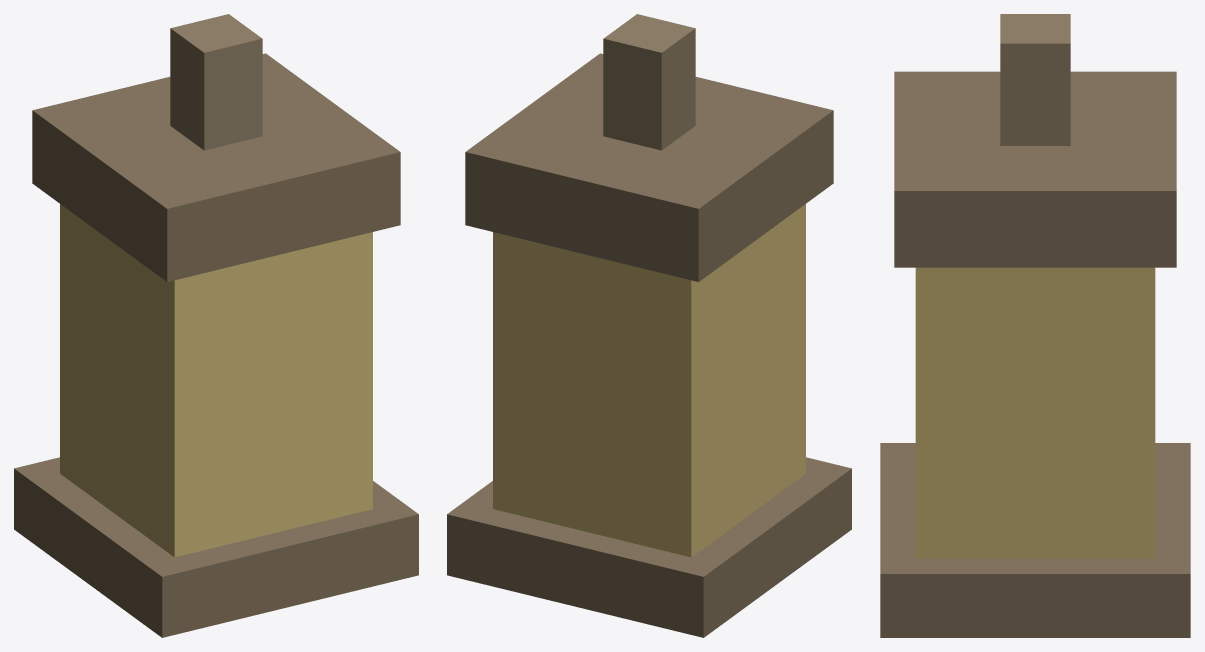
Rendered from hanging_lantern.gltf.
3 views of the same model, side by side, from view 1: azimuth 30°, elevation 25°; view 2: azimuth 150°, elevation 25°; view 3: azimuth 270°, elevation 25° (orthographic). The views are drawn at different scales.
Visible parts, largest first — view 1: hanging_lantern; view 2: hanging_lantern; view 3: hanging_lantern.
Part boxes in pixels (x1,y1,x2,y2): hanging_lantern: (14, 14, 418, 637); hanging_lantern: (447, 14, 851, 637); hanging_lantern: (880, 14, 1190, 637).
Bounding box in the file's own units: 0.44 × 0.85 × 0.44.
